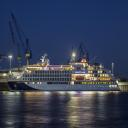cruises: (6, 53, 123, 93)
